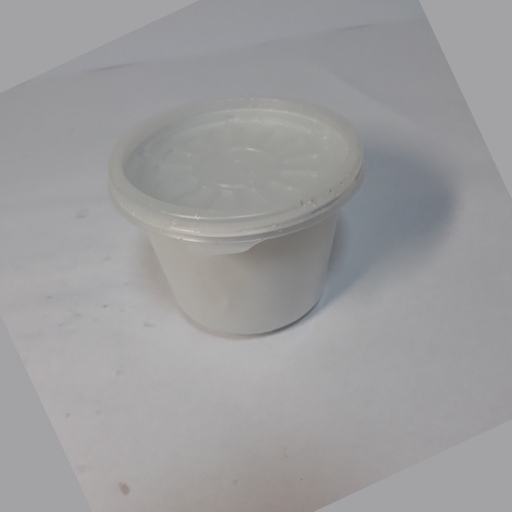Plastic_5: (108, 97, 365, 340)
